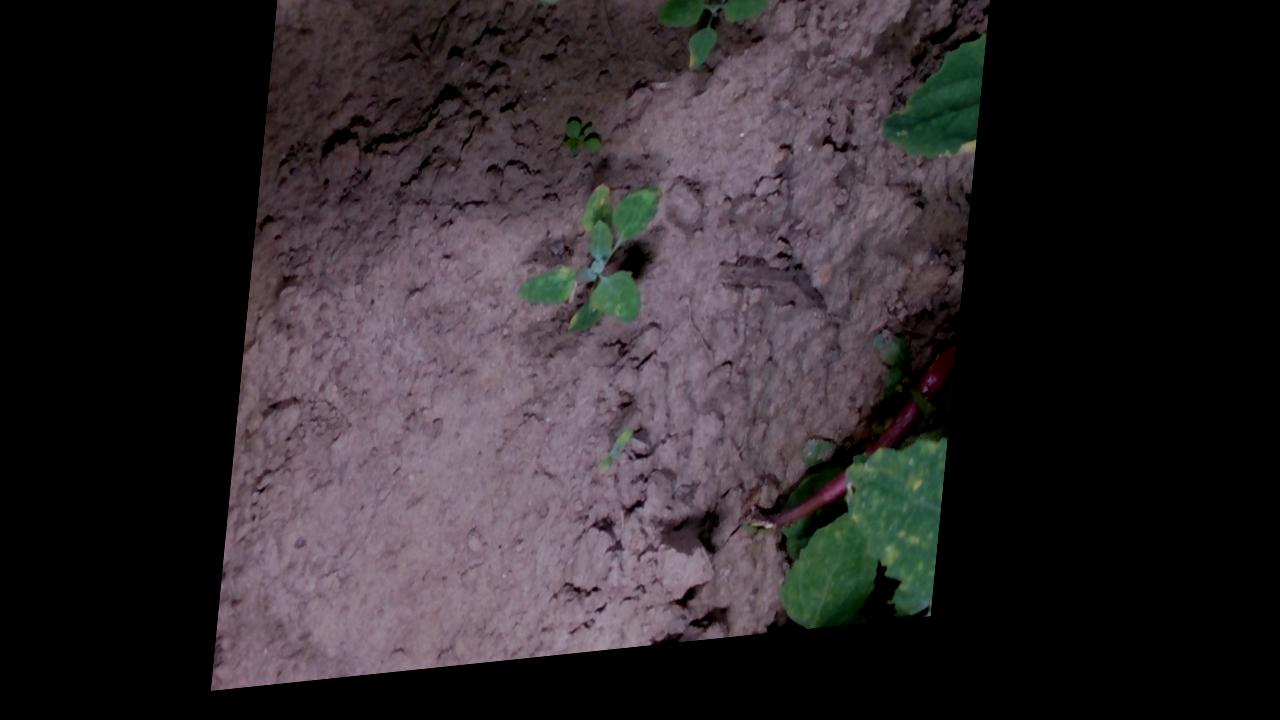weed: (560, 135, 611, 175)
